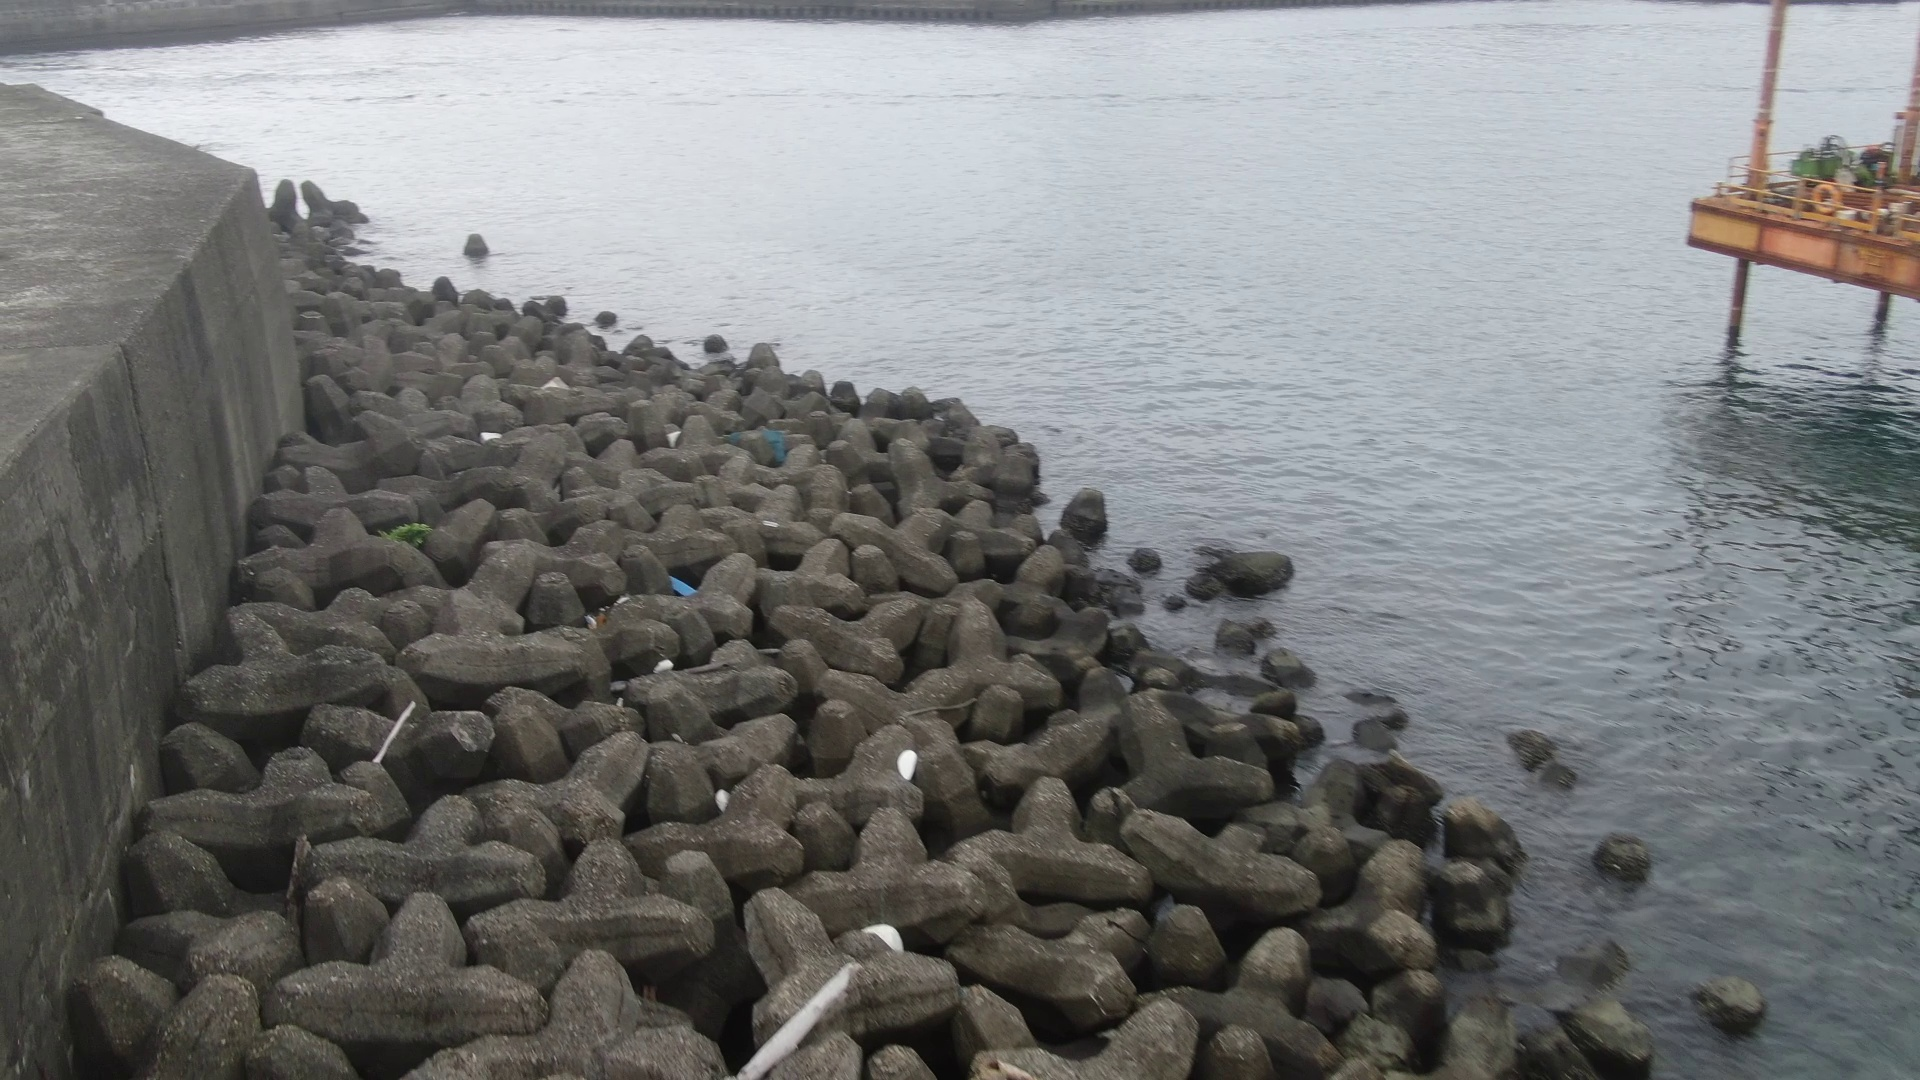garbage: (723, 426, 800, 465), (857, 919, 918, 957), (662, 564, 711, 611), (895, 742, 930, 789)
